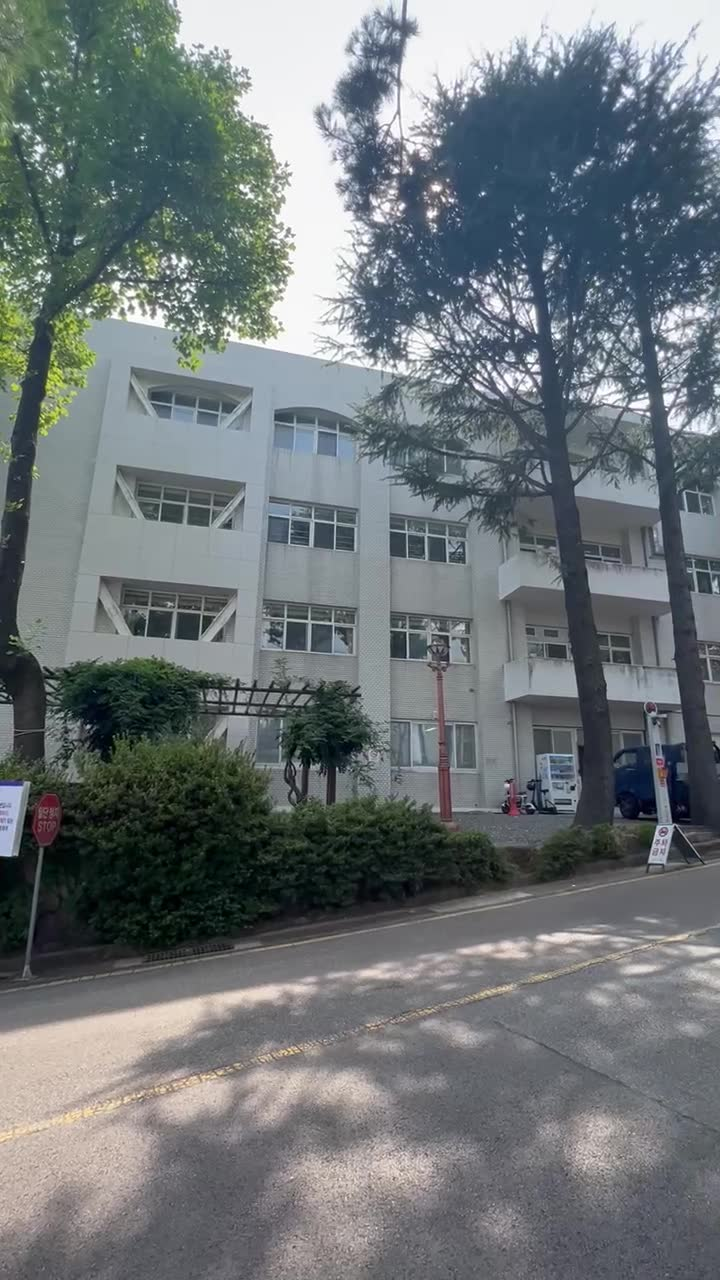low: (174, 458, 720, 826)
